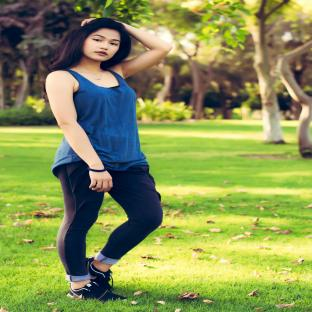Human: (45, 17, 172, 302)
